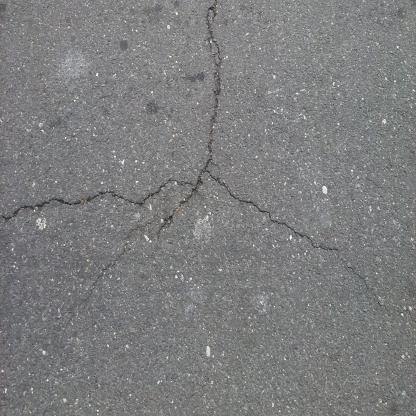Cracks: (1, 163, 379, 300), (158, 1, 227, 234)
